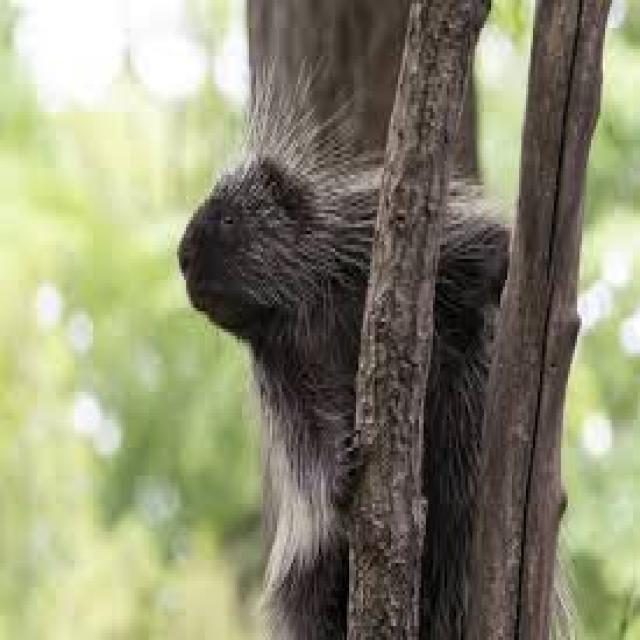Porcupine: (169, 152, 514, 593)
